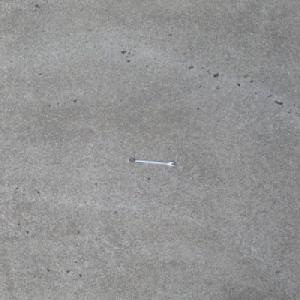Wrench: (127, 157, 176, 166)
